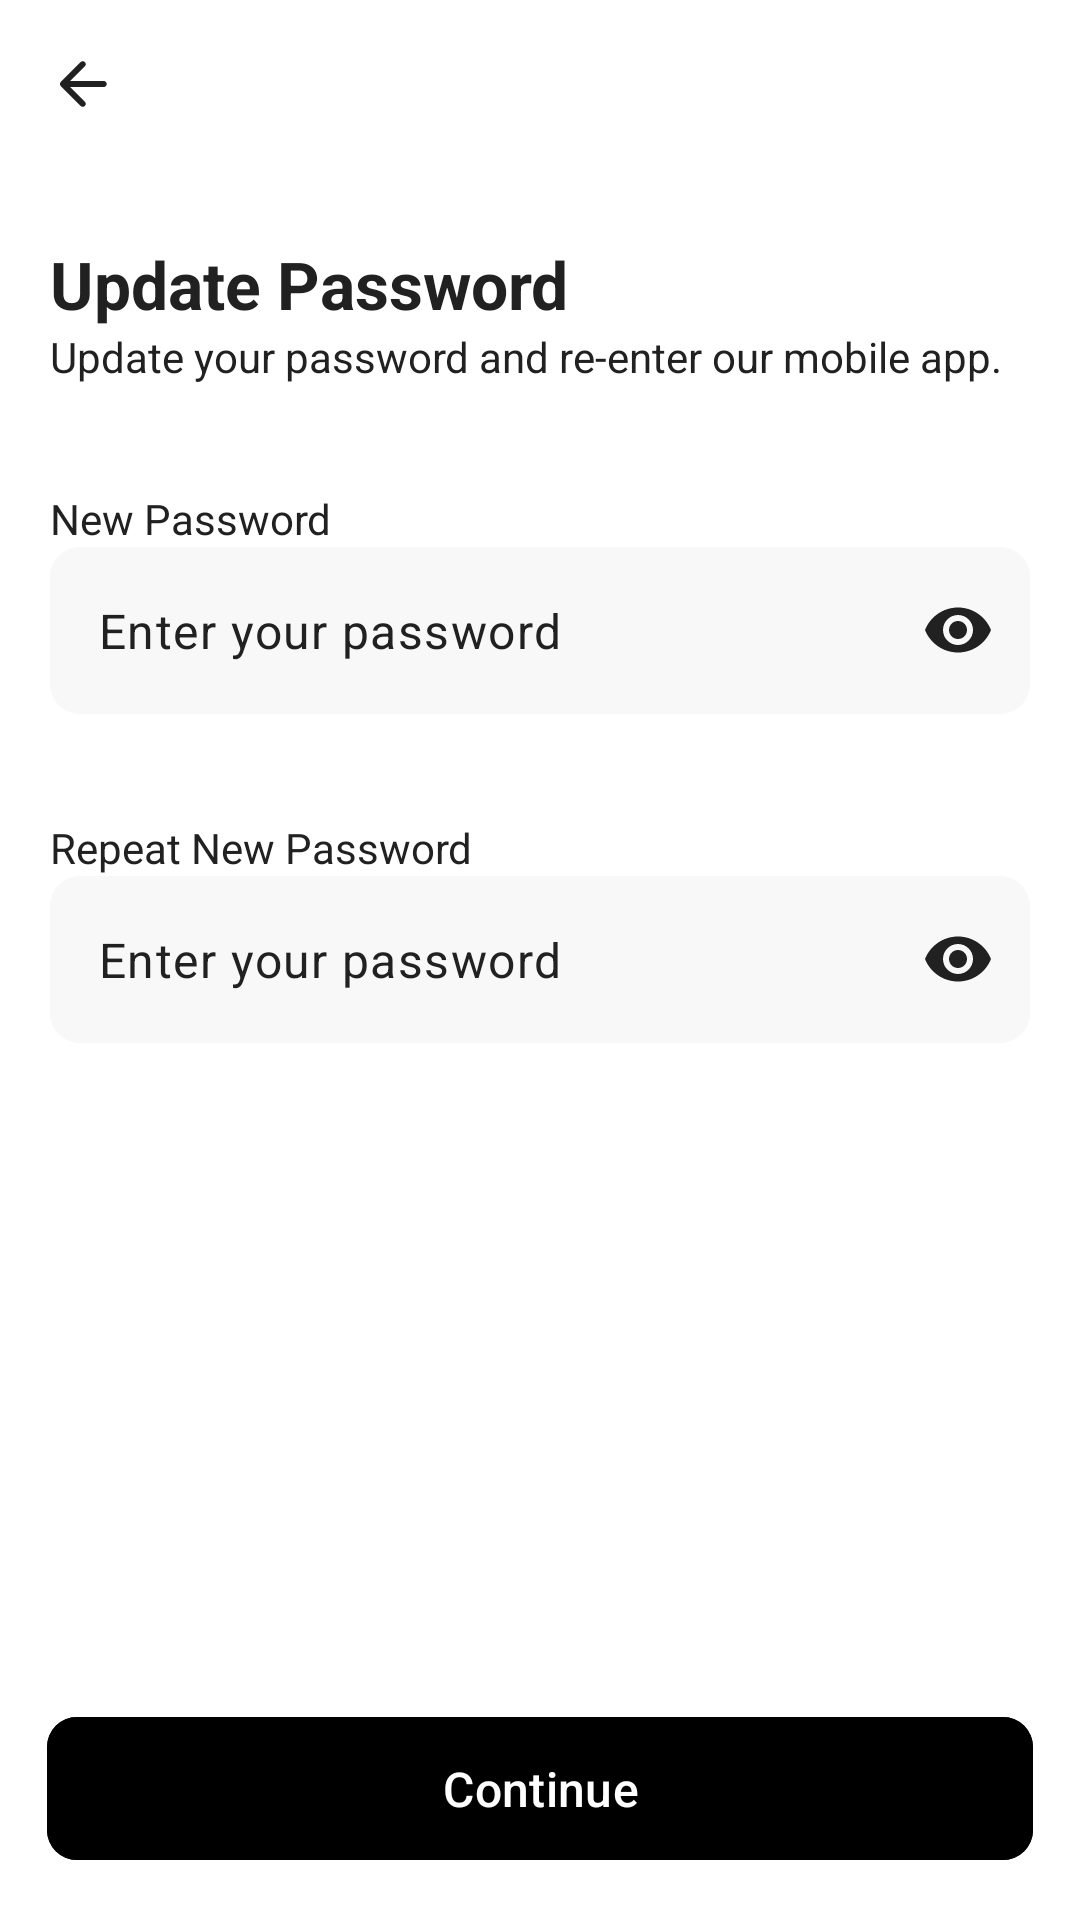

Icons on this 1080*1920 Android screen, each with its box as (x1, y1, x2, y2):
arrow back: (60, 61, 107, 107)
